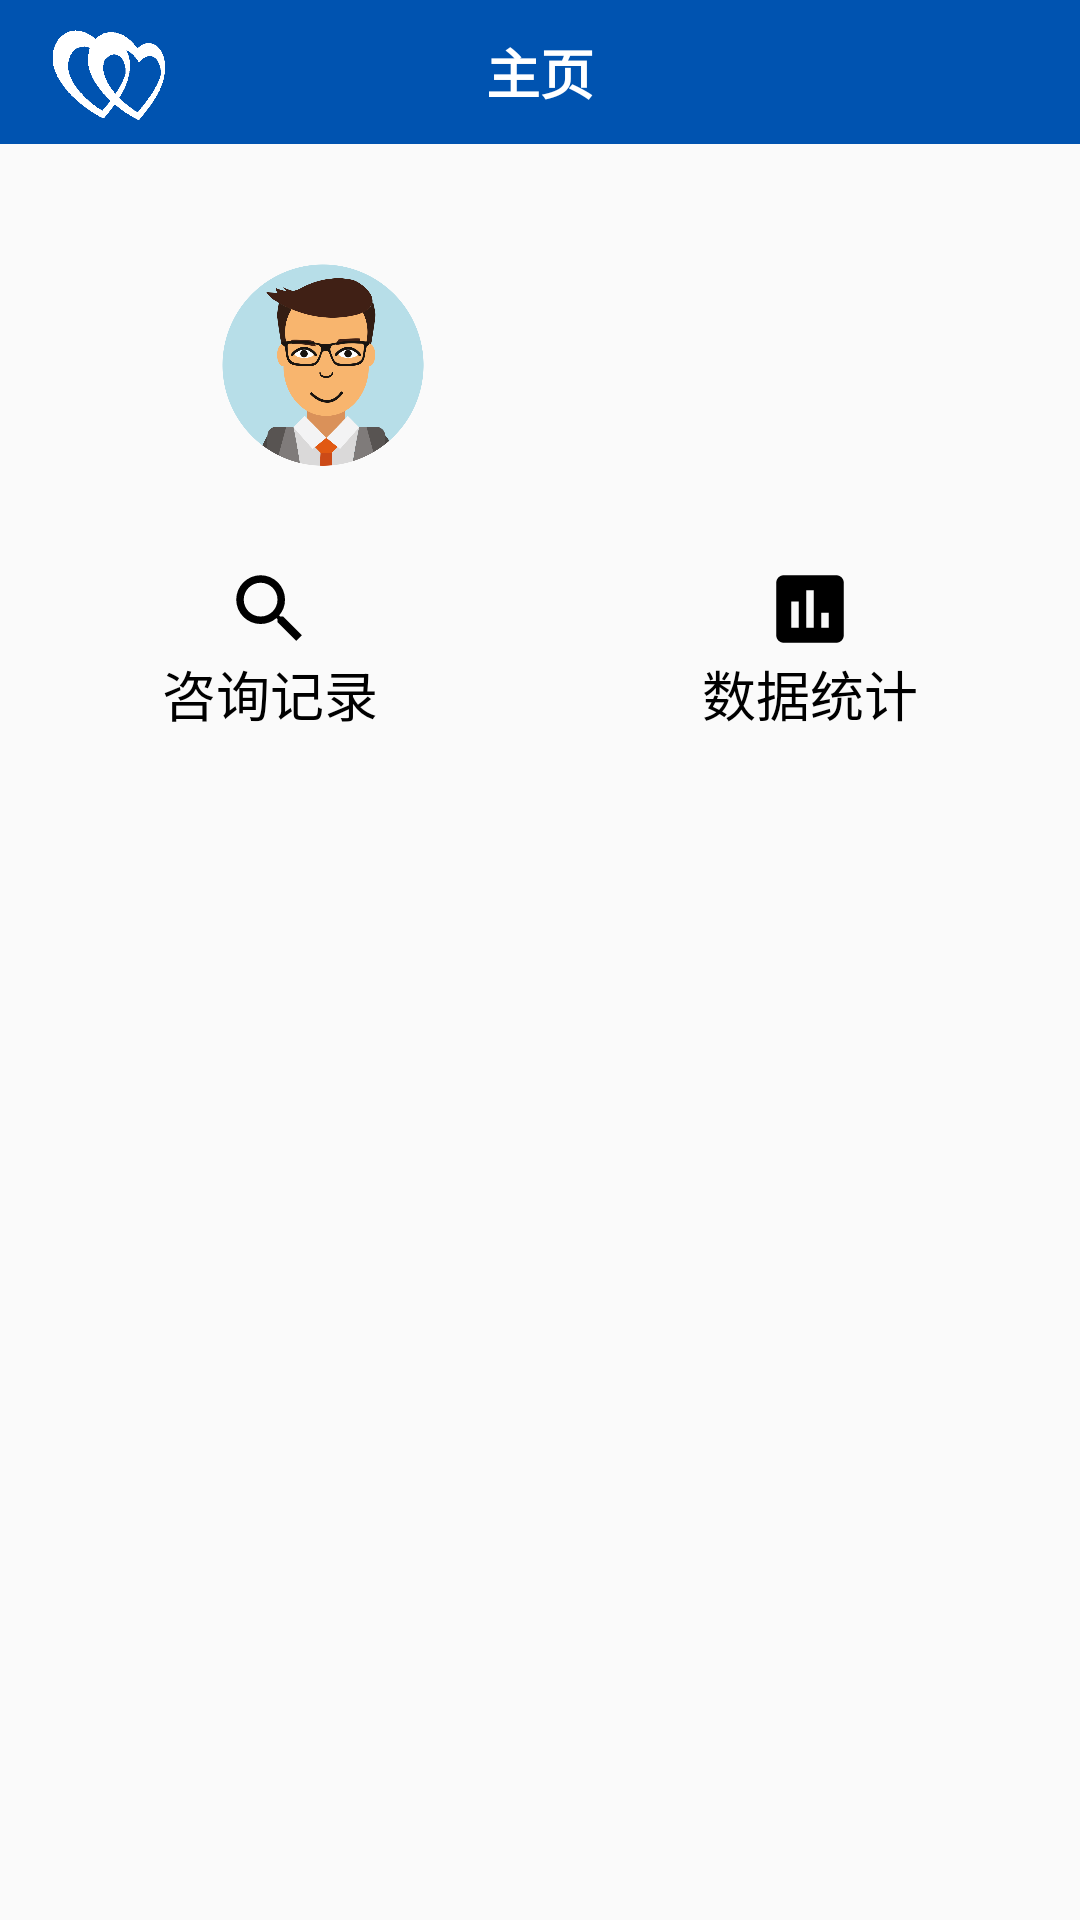

Named icons in this screenshot (1080 × 1920) and their centers, [x,y]:
assessment: [810,609]
person: [323,365]
search: [269,608]
